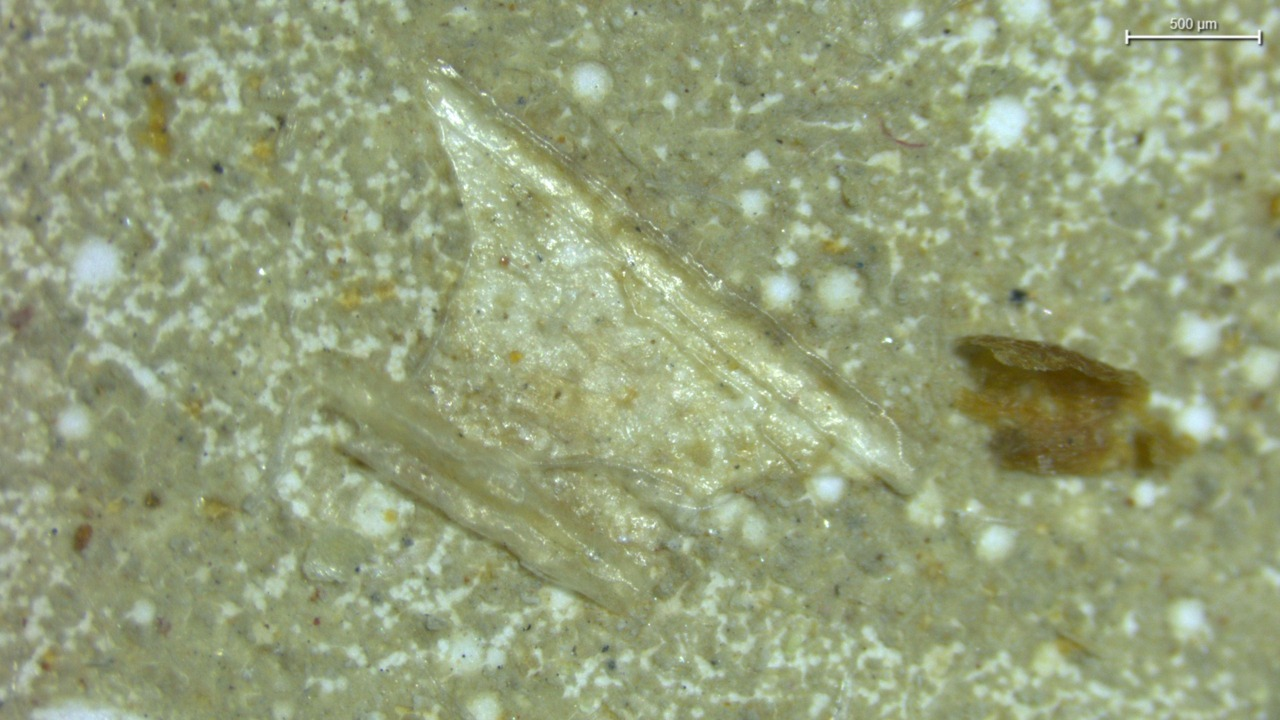microplastic_fragment: (314, 66, 909, 613)
